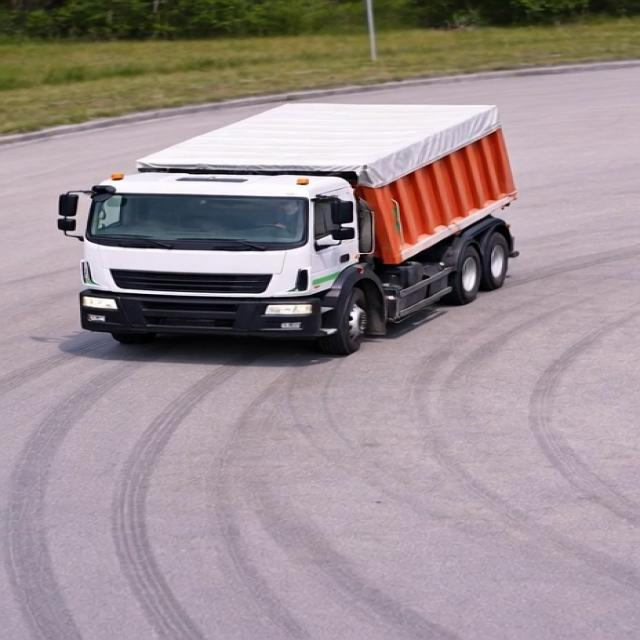Box: (126, 98, 488, 178)
Truck: (43, 78, 545, 365)
